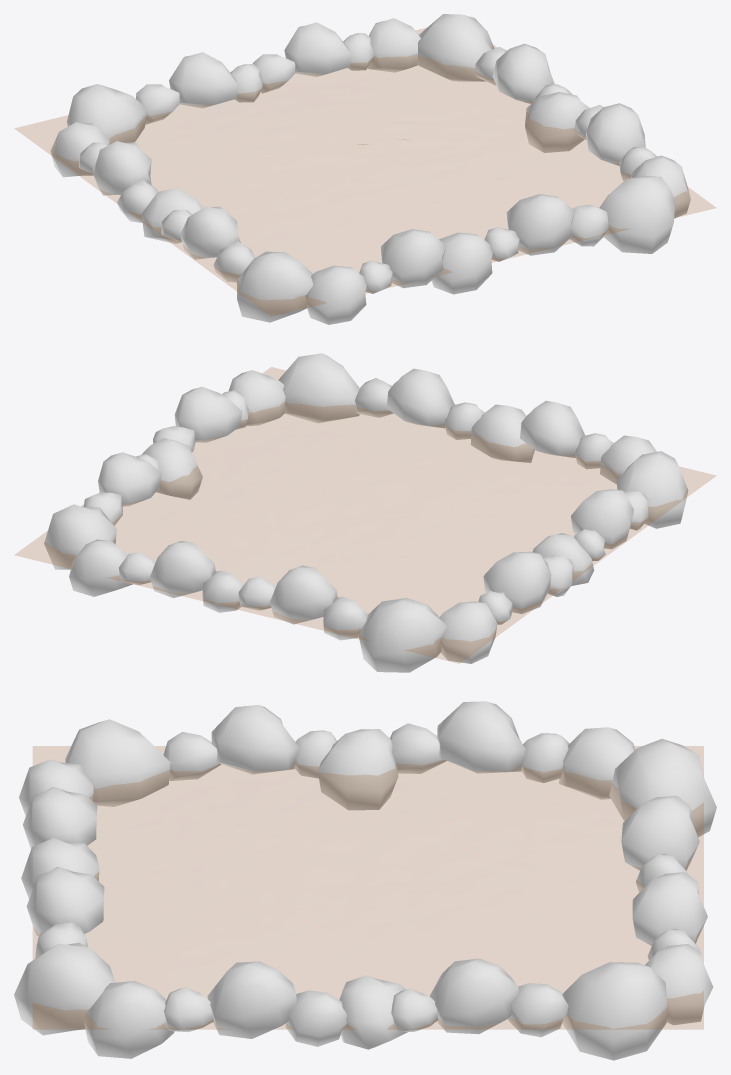
The model's file is grand.gltf.
3 renders of one model, top to bottom at view 1: azimuth 30°, elevation 25°; view 2: azimuth 150°, elevation 25°; view 3: azimuth 270°, elevation 25°, orthographic. The views are drawn at different scales.
Visible parts, largest first — view 1: Landscape, 立方体.005, 立方体.031, 立方体.024, 立方体.014, 立方体.009, 立方体.004, 立方体.028, 立方体.030, 立方体.010, 立方体.006, 立方体.020 (+21 smaller); view 2: Landscape, 立方体.014, 立方体.005, 立方体.031, 立方体.019, 立方体.024, 立方体.009, 立方体.016, 立方体.010, 立方体, 立方体.028, 立方体.020 (+21 smaller); view 3: Landscape, 立方体.024, 立方体.005, 立方体.031, 立方体.014, 立方体, 立方体.003, 立方体.015, 立方体.027, 立方体.019, 立方体.034, 立方体.010 (+19 smaller).
Boxes of the visible parts, <box> form: Landscape: <box>15,28,715,316</box>; 立方体.005: <box>599,175,675,253</box>; 立方体.031: <box>236,251,312,322</box>; 立方体.024: <box>417,14,494,81</box>; 立方体.014: <box>67,84,147,144</box>; 立方体.009: <box>506,194,575,255</box>; 立方体.004: <box>525,92,589,152</box>; 立方体.028: <box>381,229,446,288</box>; 立方体.030: <box>305,265,366,324</box>; 立方体.010: <box>169,52,237,108</box>; 立方体.006: <box>431,232,492,294</box>; 立方体.020: <box>284,22,350,76</box>; Landscape: <box>15,367,715,663</box>; 立方体.014: <box>358,598,446,672</box>; 立方体.005: <box>278,353,359,423</box>; 立方体.031: <box>616,451,688,528</box>; 立方体.019: <box>483,551,551,613</box>; 立方体.024: <box>44,504,116,569</box>; 立方体.009: <box>386,368,454,428</box>; 立方体.016: <box>439,601,497,663</box>; 立方体.010: <box>270,565,337,624</box>; 立方体: <box>174,387,242,442</box>; 立方体.028: <box>520,400,585,457</box>; 立方体.020: <box>150,541,215,597</box>; Landscape: <box>33,746,703,1029</box>; 立方体.024: <box>562,962,667,1060</box>; 立方体.005: <box>14,942,115,1035</box>; 立方体.031: <box>65,719,170,806</box>; 立方体.014: <box>609,739,716,837</box>; 立方体: <box>207,961,296,1038</box>; 立方体.003: <box>83,981,174,1058</box>; 立方体.015: <box>318,729,398,810</box>; 立方体.027: <box>430,958,518,1034</box>; 立方体.019: <box>437,701,525,773</box>; 立方体.034: <box>211,705,299,774</box>; 立方体.010: <box>621,796,699,870</box>.
Size of the model in its own units: 2.04 by 0.3101 by 2.09.
